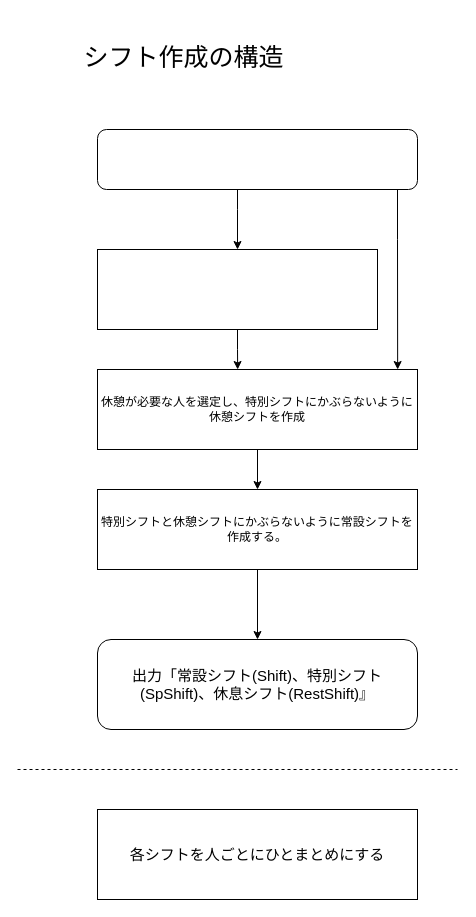
Some shapes in this 476 by 917 pixel diagram are drawn without their labels. The shapes that lost their labels are listed below. From the top down, each one's box as (x1, y1, x2, y2) in pixels, then its label:
(96, 128, 418, 190): 入力値『従業員（Worker）、常設仕事（Job）、特別仕事（SpecialJob）』
(96, 248, 378, 330): その人専用の特別仕事から特別シフトを作成。
